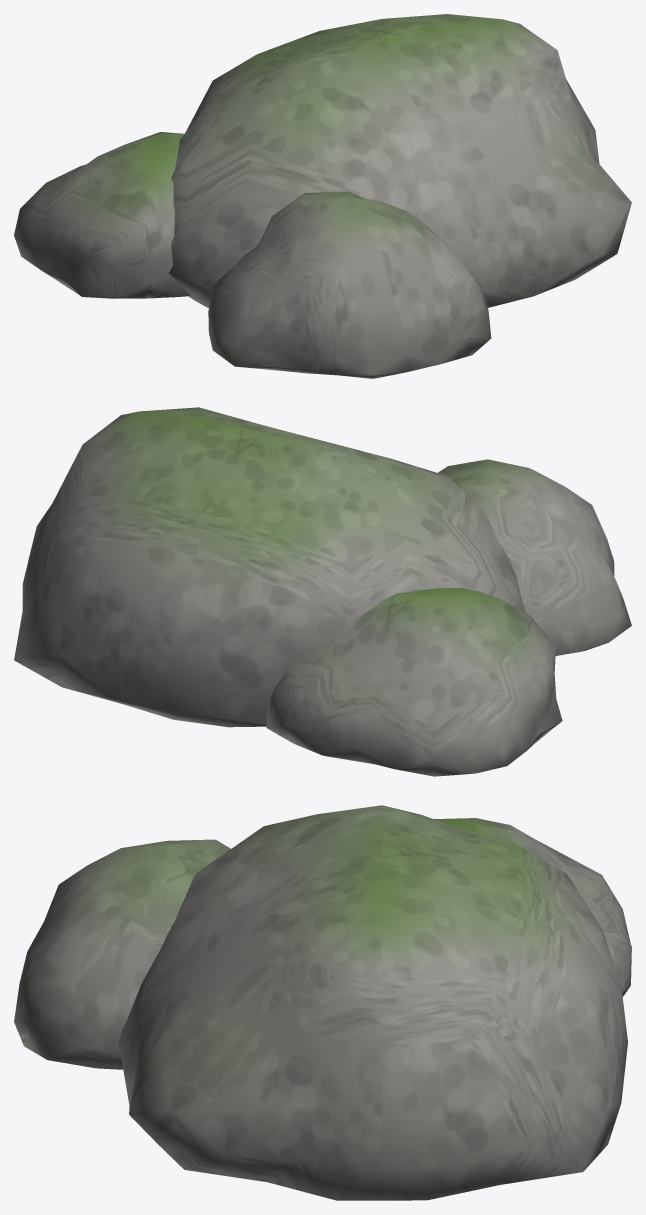
Rendered from ore_stone_cluster.glb.
3 views of the same model, one above another, from view 1: azimuth 30°, elevation 25°; view 2: azimuth 150°, elevation 25°; view 3: azimuth 270°, elevation 25° (orthographic). The views are drawn at different scales.
Visible parts, largest first — view 1: ore_stone_stone; view 2: ore_stone_stone; view 3: ore_stone_stone.
Part boxes in pixels (<box>): ore_stone_stone: <box>14,14,631,378</box>; ore_stone_stone: <box>14,407,631,776</box>; ore_stone_stone: <box>14,805,631,1200</box>.
Size of the model in its own units: 1.92 by 0.7457 by 1.67.
1 material, 1 textured.
